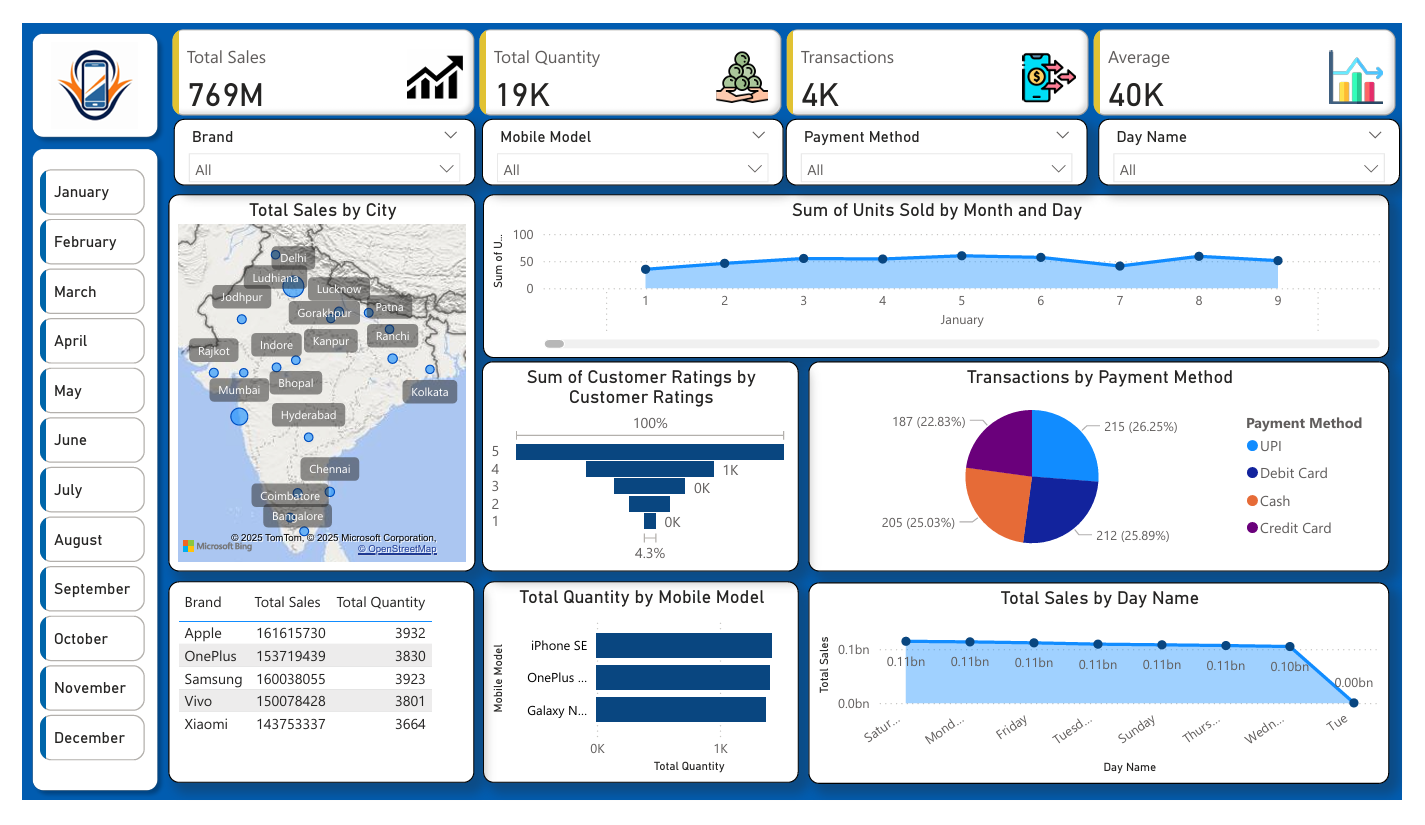

Layout of this report page (visuals, bound fields, positions):
{"tool":"powerbi","page":{"name":"Page 1","canvas":[1280,720],"ordinal":0},"visuals":[{"type":"shape","box":[0,0,134,114.4],"z":0},{"type":"shape","box":[0,107.3,134.1,612.2],"z":1000},{"type":"cardVisual","fields":{"Data":["Sales_Data.Total Sales","Sales_Data.Total Quantity","Sales_Data.Transactions","Sales_Data.Average"]},"box":[133.9,0,1146.1,90.5],"z":2000},{"type":"map","fields":{"Category":["Sales_Data.City"],"Size":["Sales_Data.Total Sales"]},"box":[135.1,158,284.7,349.9],"z":3000},{"type":"advancedSlicerVisual","fields":{"Values":["Sales_Data.Date.Variation.Date Hierarchy.Month"]},"box":[10.7,129.8,107.1,567.9],"z":4000},{"type":"lineChart","fields":{"Y":["Sum(Sales_Data.Units Sold)"],"Category":["Sales_Data.Date.Variation.Date Hierarchy.Month","Sales_Data.Date.Variation.Date Hierarchy.Day"]},"box":[427.1,158,840.9,152],"z":5000},{"type":"clusteredBarChart","fields":{"Category":["Sales_Data.Mobile Model"],"Y":["Sales_Data.Total Quantity"]},"box":[427.4,516.7,292.9,186.9],"z":6000},{"type":"pieChart","fields":{"Category":["Sales_Data.Payment Method"],"Y":["Sales_Data.Transactions"]},"box":[728.6,313.1,539.3,195.2],"z":7000},{"type":"funnel","fields":{"Category":["Sales_Data.Customer Ratings"],"Y":["Sum(Sales_Data.Customer Ratings)"]},"box":[426.2,313.1,294,195.2],"z":8000},{"type":"areaChart","fields":{"Category":["Sales_Data.Day Name"],"Y":["Sales_Data.Total Sales"]},"box":[728.7,517.6,539.3,187],"z":9000},{"type":"tableEx","fields":{"Values":["Sales_Data.Brand","Sales_Data.Total Sales","Sales_Data.Total Quantity"]},"box":[134.5,516.7,284.5,186.9],"z":10000},{"type":"image","box":[21.7,10.8,90.4,91.6],"z":11000},{"type":"slicer","fields":{"Values":["Sales_Data.Brand"]},"box":[139.9,88.1,279.9,61.5],"z":12000},{"type":"slicer","fields":{"Values":["Sales_Data.Mobile Model"]},"box":[425.9,88.1,279.9,61.5],"z":14000},{"type":"slicer","fields":{"Values":["Sales_Data.Payment Method"]},"box":[708.2,88.1,279.9,61.5],"z":15000},{"type":"slicer","fields":{"Values":["Sales_Data.Day Name"]},"box":[997.7,88.1,279.9,61.5],"z":16000}]}

Visuals, with their boxes in screenshot pixels (x1, y1, x2, y2), scaled from the page's 1280x720 canvas onto the 1425x825 screenshot:
shape: BBox(0, 0, 149, 131)
shape: BBox(0, 123, 149, 824)
cardVisual - Sales_Data.Total Sales x Sales_Data.Total Quantity: BBox(149, 0, 1424, 104)
map - Sales_Data.City x Sales_Data.Total Sales: BBox(150, 181, 467, 582)
advancedSlicerVisual - Sales_Data.Date.Variation.Date Hierarchy.Month: BBox(12, 149, 131, 799)
lineChart - Sum(Sales_Data.Units Sold) x Sales_Data.Date.Variation.Date Hierarchy.Month: BBox(475, 181, 1412, 355)
clusteredBarChart - Sales_Data.Mobile Model x Sales_Data.Total Quantity: BBox(476, 592, 802, 806)
pieChart - Sales_Data.Payment Method x Sales_Data.Transactions: BBox(811, 359, 1412, 582)
funnel - Sales_Data.Customer Ratings x Sum(Sales_Data.Customer Ratings): BBox(474, 359, 802, 582)
areaChart - Sales_Data.Day Name x Sales_Data.Total Sales: BBox(811, 593, 1412, 807)
tableEx - Sales_Data.Brand x Sales_Data.Total Sales: BBox(150, 592, 466, 806)
image: BBox(24, 12, 125, 117)
slicer - Sales_Data.Brand: BBox(156, 101, 467, 171)
slicer - Sales_Data.Mobile Model: BBox(474, 101, 786, 171)
slicer - Sales_Data.Payment Method: BBox(788, 101, 1100, 171)
slicer - Sales_Data.Day Name: BBox(1111, 101, 1422, 171)
